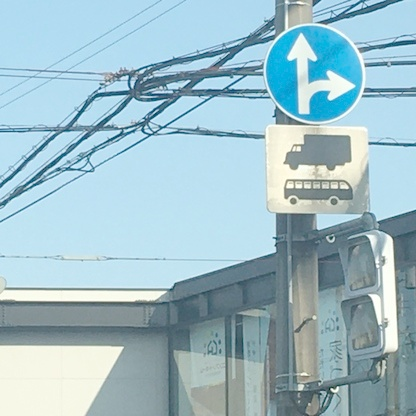Direction_sign: (262, 24, 371, 131)
